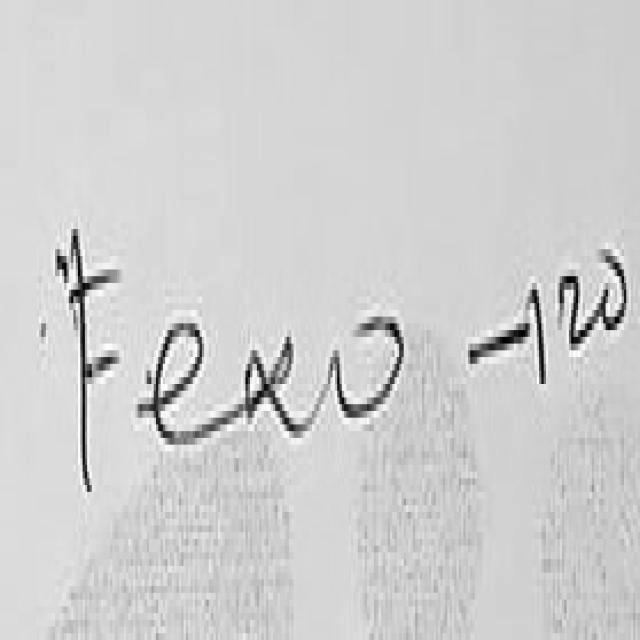0: (604, 249, 629, 327)
1: (528, 290, 548, 381)
2: (562, 276, 606, 347)
F: (69, 229, 119, 488)
e: (138, 323, 245, 445)
o: (330, 317, 406, 421)
x: (245, 337, 337, 435)
